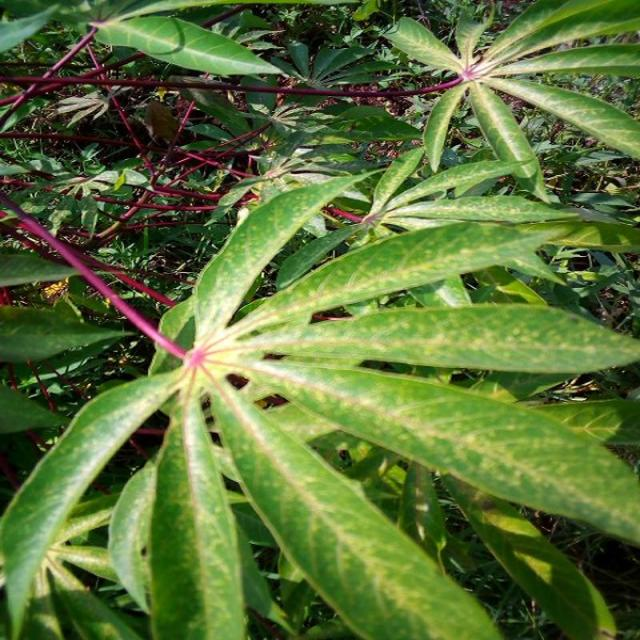cassava leaf: (1, 159, 638, 638)
